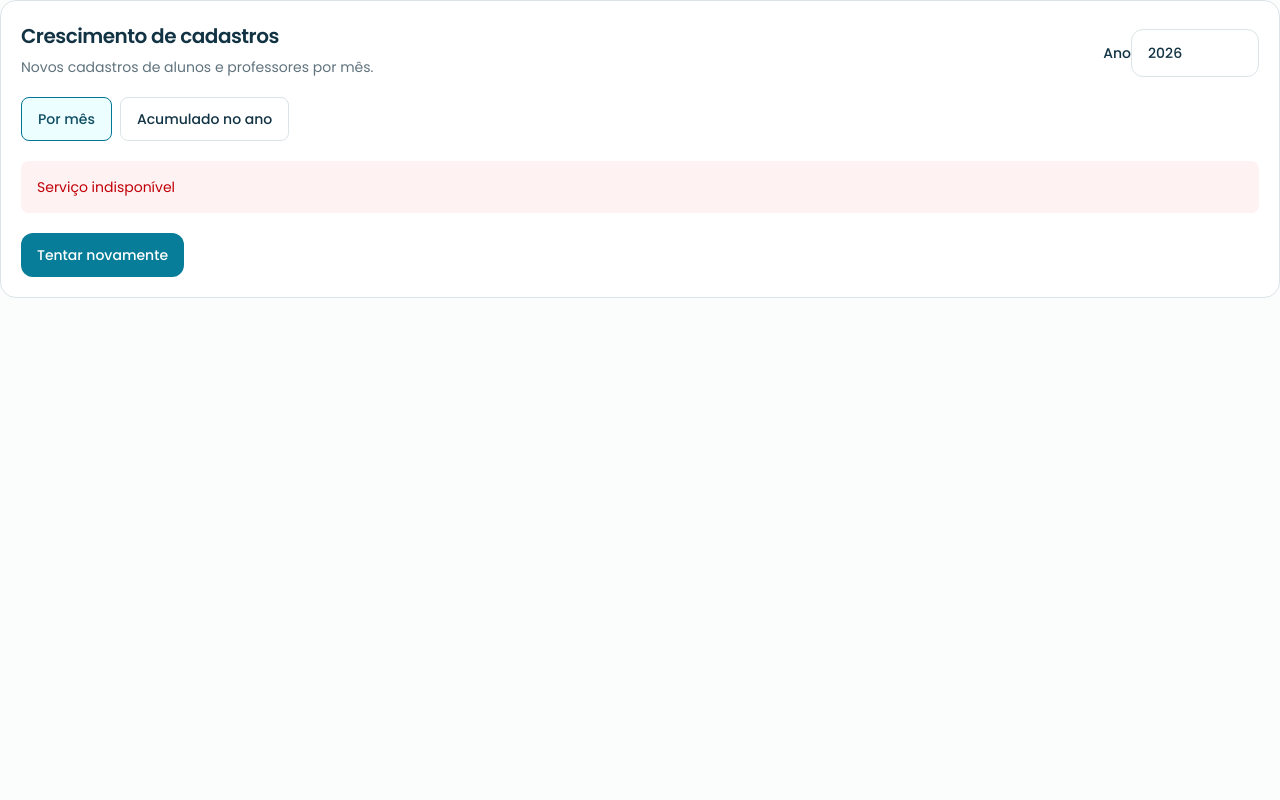
Test: erro permite tentar novamente
The width and height of the screenshot is (1280, 800).
Expected: the message reads "Serviço indisponível", x1=37 y1=177 x2=175 y2=197
Step 1. Click the button "Tentar novamente" → point(102, 255), box x1=21 y1=233 x2=184 y2=277
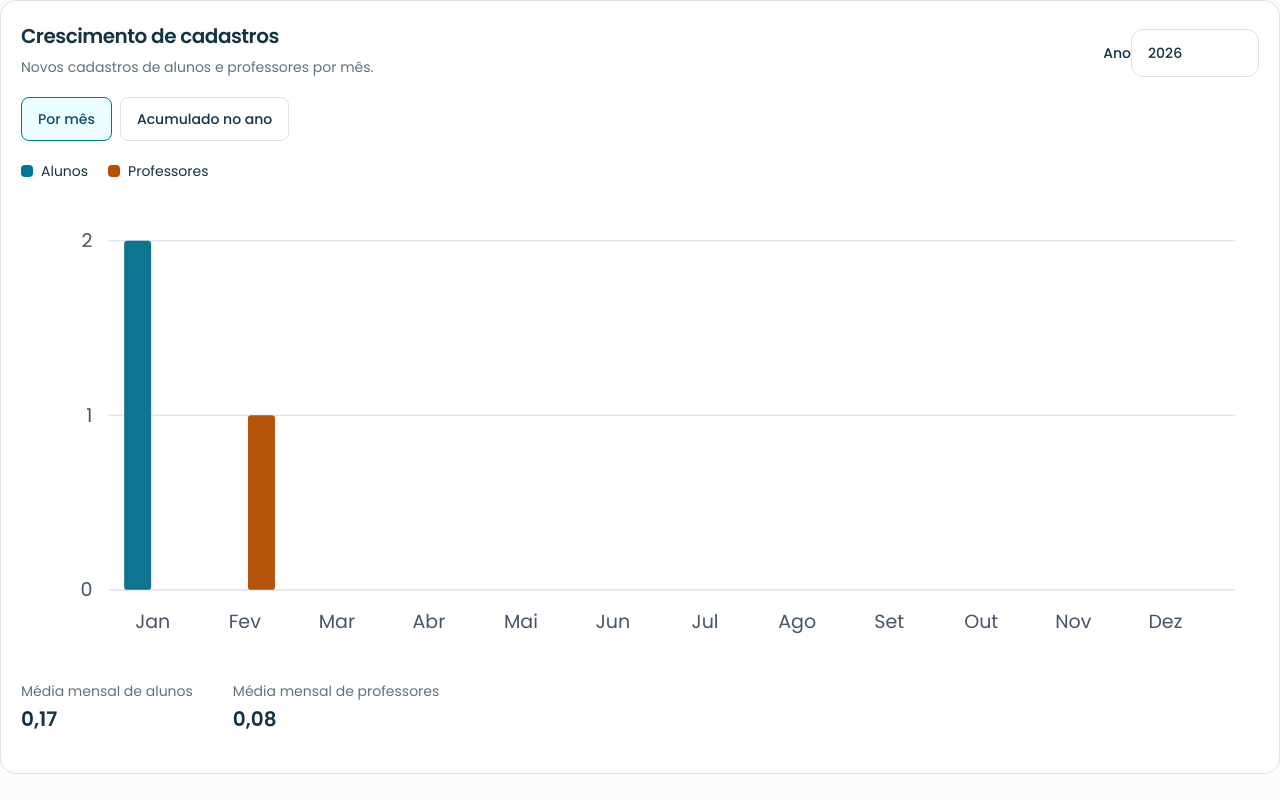
Now the picture is shown, box x1=21 y1=201 x2=1259 y2=661
